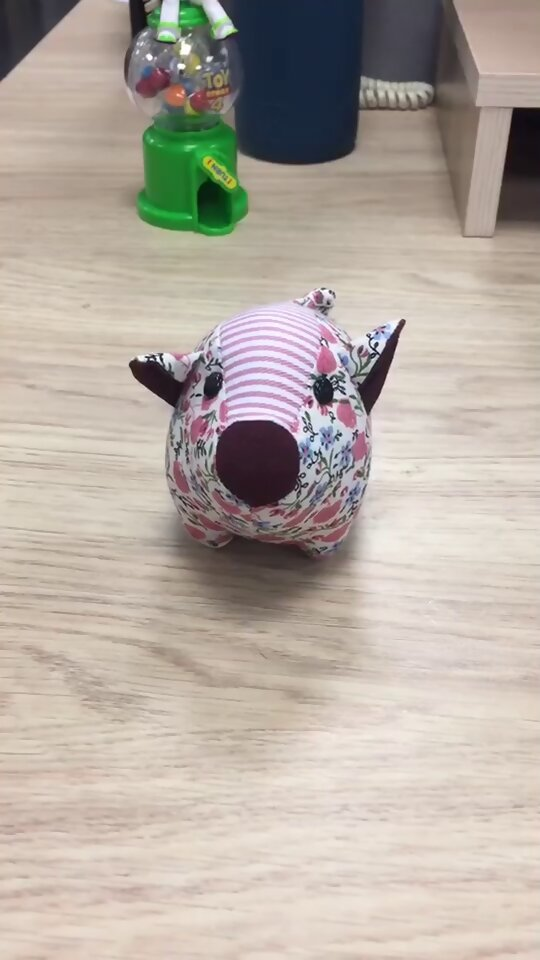buzz: (126, 283, 410, 574)
